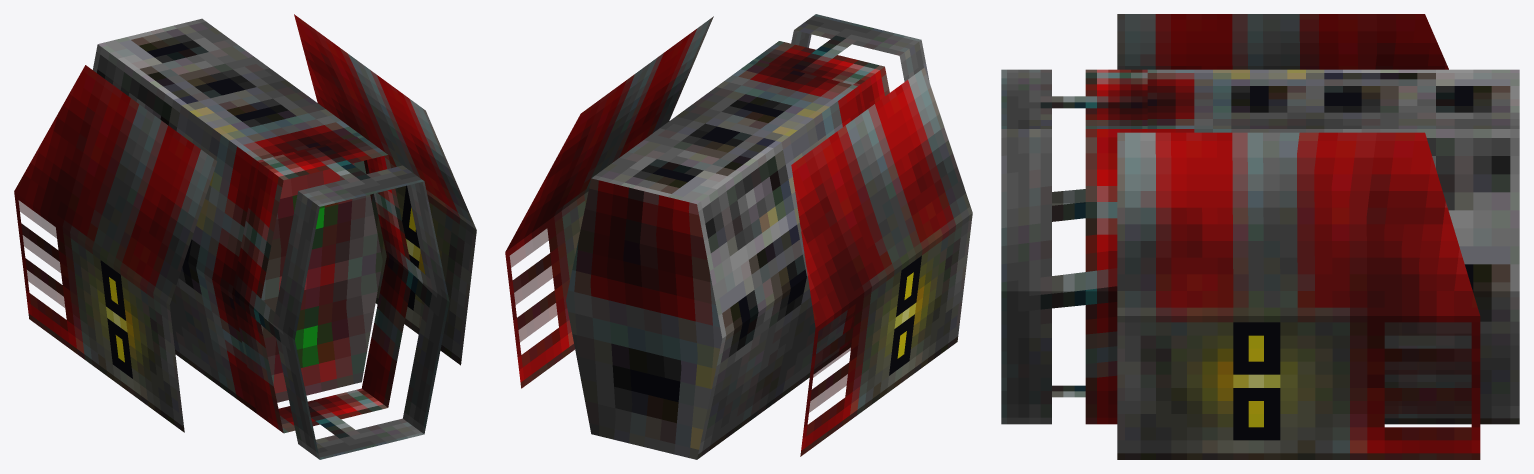
3 views of the same model, side by side, from view 1: azimuth 30°, elevation 25°; view 2: azimuth 150°, elevation 25°; view 3: azimuth 270°, elevation 25° (orthographic). The views are drawn at different scales.
Parts seen in each view (by area): view 1: Hk_obj_020; view 2: Hk_obj_020; view 3: Hk_obj_020.
Part boxes in pixels (x1=…): Hk_obj_020: x1=14, y1=14, x2=476, y2=459; Hk_obj_020: x1=505, y1=14, x2=972, y2=459; Hk_obj_020: x1=1001, y1=14, x2=1519, y2=459.
Size of the model in its own units: 0.7168 by 0.6133 by 0.8984.
Materials: 1 (1 with a texture image).
